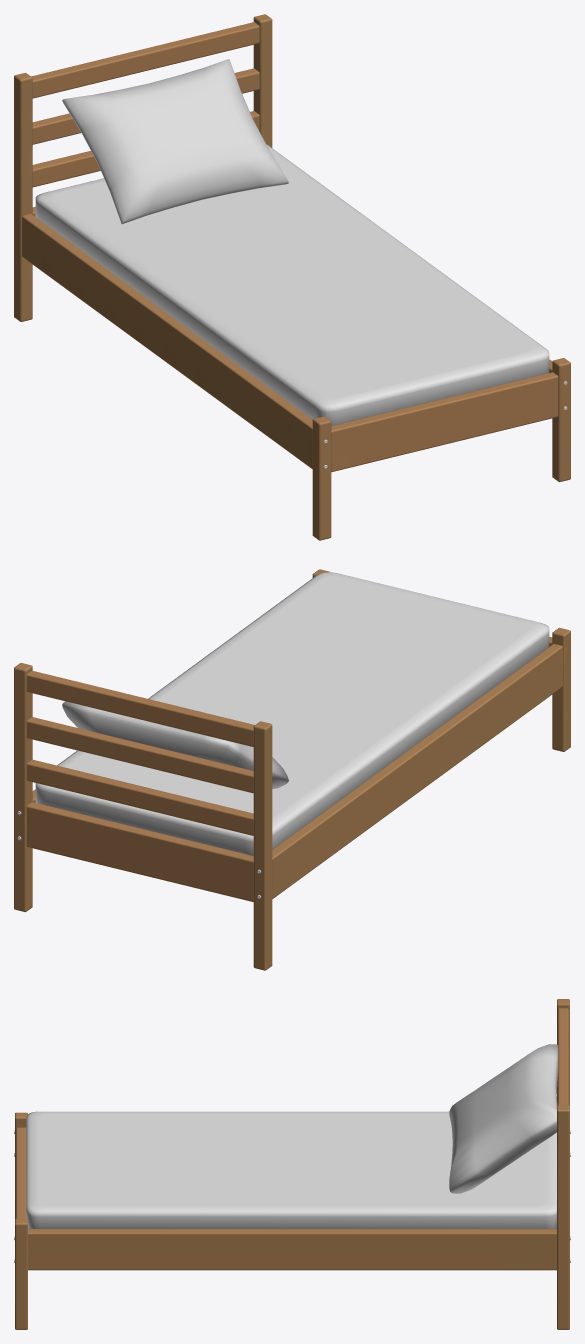
Rendered from cama-solteiro.glb.
The picture shows the model from 3 angles, top to bottom: view 1: azimuth 30°, elevation 25°; view 2: azimuth 150°, elevation 25°; view 3: azimuth 270°, elevation 25°; orthographic projection. The views are drawn at different scales.
Visible parts, largest first — view 1: Bed Mattress_Bed Mattress_0, Bed Frame_Bed Frame_0, Bed Pillow_Bed Pillow_0; view 2: Bed Mattress_Bed Mattress_0, Bed Frame_Bed Frame_0, Bed Pillow_Bed Pillow_0; view 3: Bed Mattress_Bed Mattress_0, Bed Frame_Bed Frame_0, Bed Pillow_Bed Pillow_0.
Part boxes in pixels (bbox=[...]): Bed Mattress_Bed Mattress_0: bbox=[35, 144, 549, 425]; Bed Frame_Bed Frame_0: bbox=[14, 14, 570, 540]; Bed Pillow_Bed Pillow_0: bbox=[62, 59, 288, 224]; Bed Mattress_Bed Mattress_0: bbox=[35, 572, 549, 855]; Bed Frame_Bed Frame_0: bbox=[14, 569, 570, 970]; Bed Pillow_Bed Pillow_0: bbox=[62, 701, 288, 788]; Bed Mattress_Bed Mattress_0: bbox=[26, 1111, 556, 1228]; Bed Frame_Bed Frame_0: bbox=[14, 999, 570, 1329]; Bed Pillow_Bed Pillow_0: bbox=[449, 1044, 558, 1193].
Bounding box in the file's own units: 100 × 91.85 × 211.
3 materials, 3 textured.
